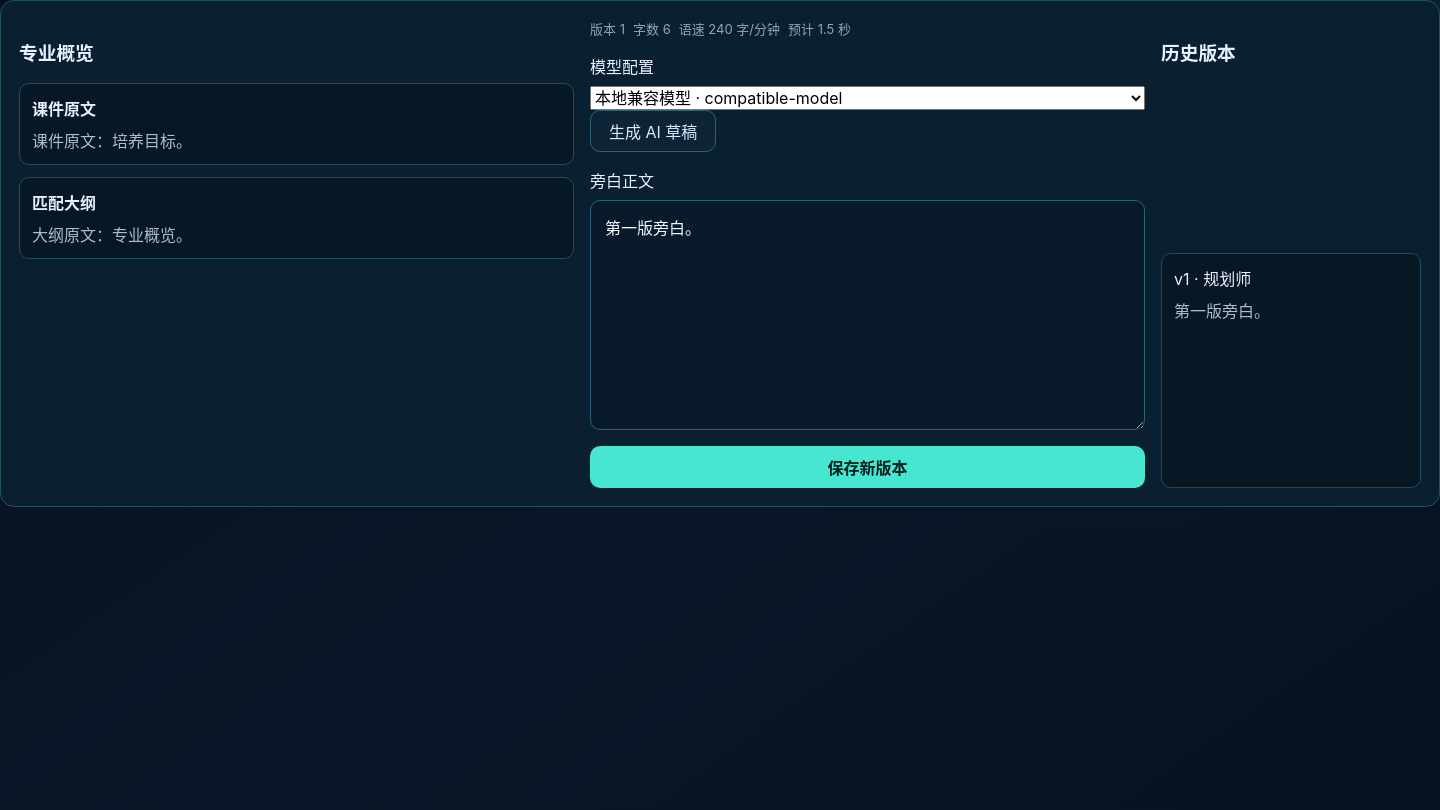
Test: narration editor › generates a source-constrained draft with a saved profile
Click the button "生成 AI 草稿" at coordinates (653, 131), box left=590, top=110, right=716, bottom=152
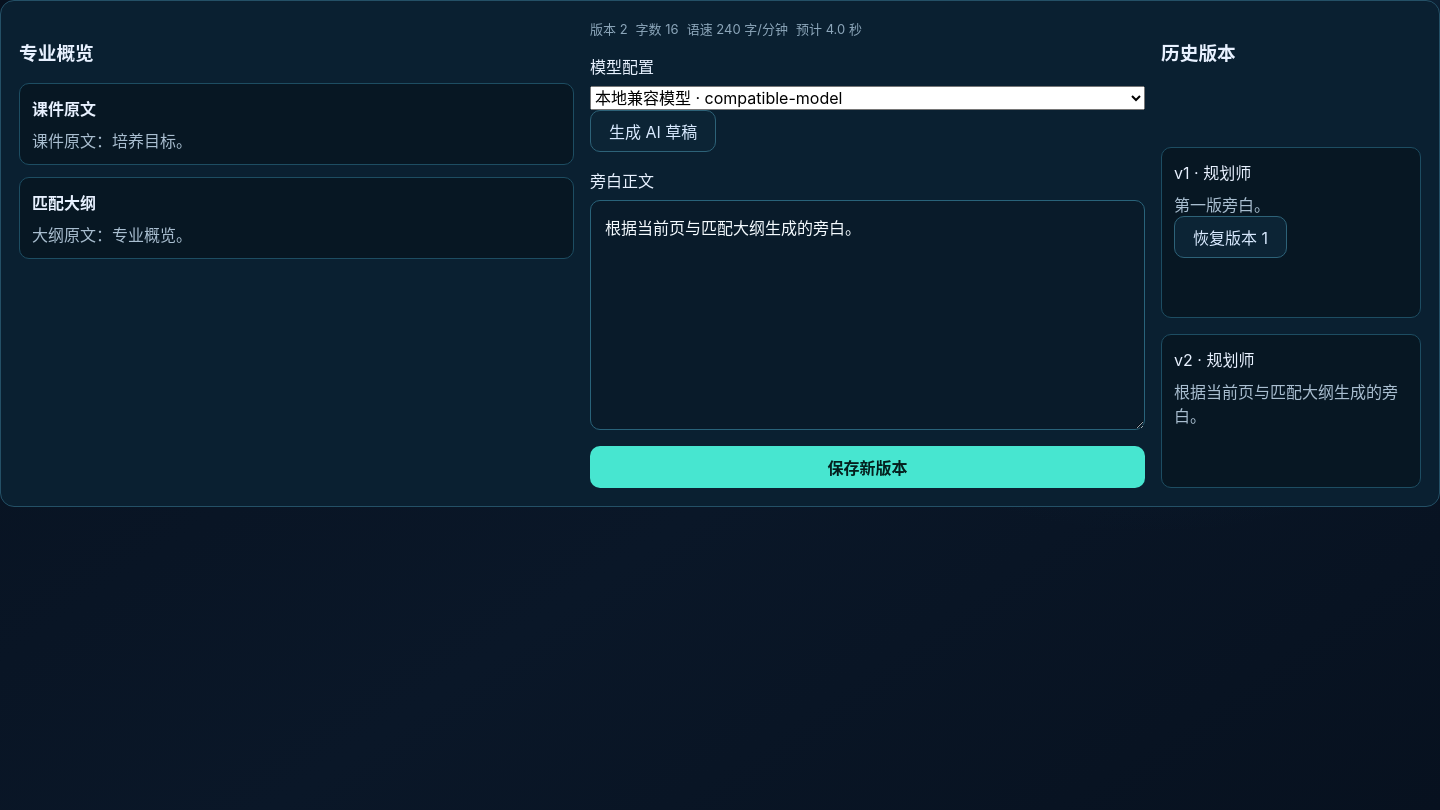
Result: the text "版本 2" is shown at left=590, top=19, right=628, bottom=38
Result: the text box labelled "旁白正文" holds "根据当前页与匹配大纲生成的旁白。" at left=590, top=200, right=1145, bottom=430
